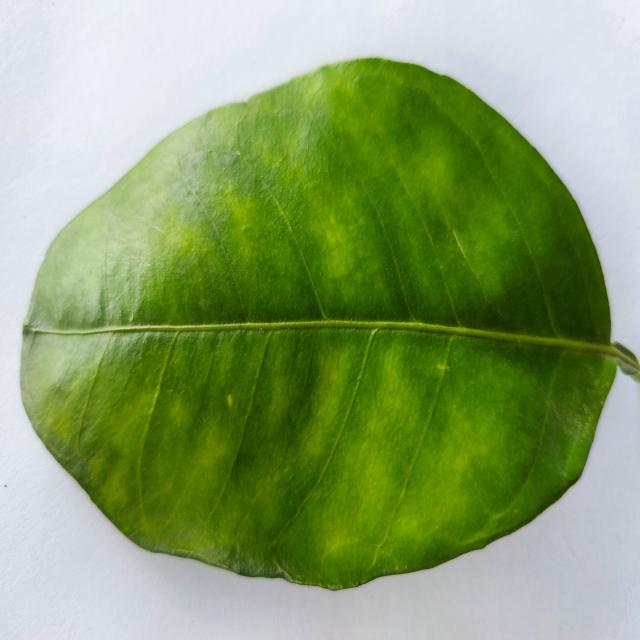greening: (21, 58, 640, 588)
